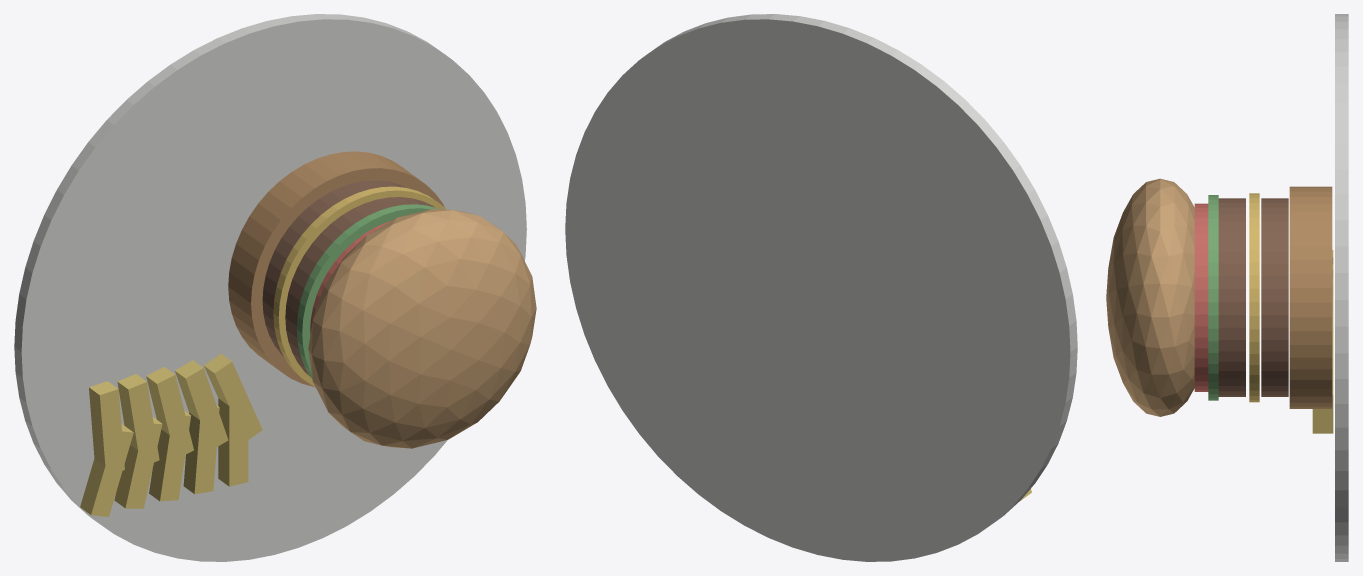
The model's file is burger-rabieta.glb.
3 views of the same model, side by side, from view 1: azimuth 30°, elevation 25°; view 2: azimuth 150°, elevation 25°; view 3: azimuth 270°, elevation 25° (orthographic). The views are drawn at different scales.
Visible parts, largest first — view 1: world; view 2: world; view 3: world.
Part boxes in pixels (<box>): world: <box>14,14,536,561</box>; world: <box>565,14,1077,561</box>; world: <box>1106,14,1348,561</box>.
Bounding box in the file's own units: 0.32 × 0.32 × 0.1415.
